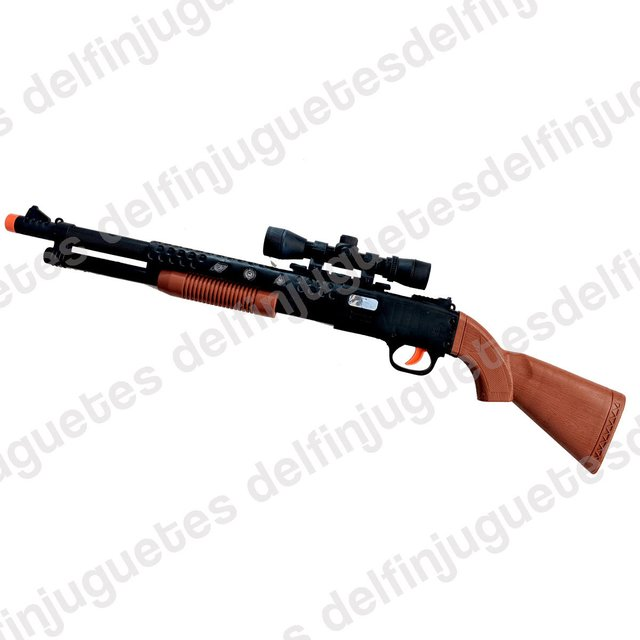Arma Falsa: (6, 201, 628, 484)
